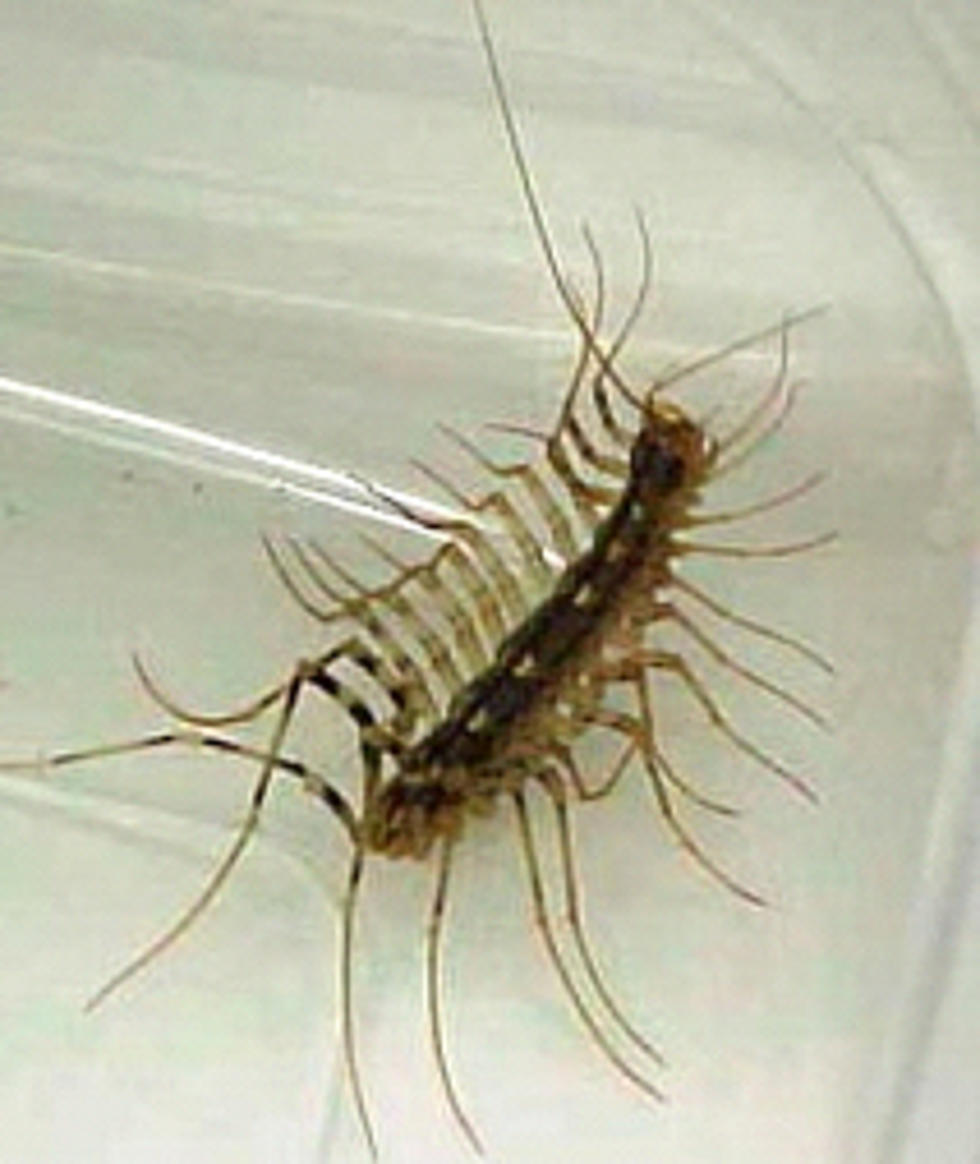centipede: (127, 195, 889, 1164)
